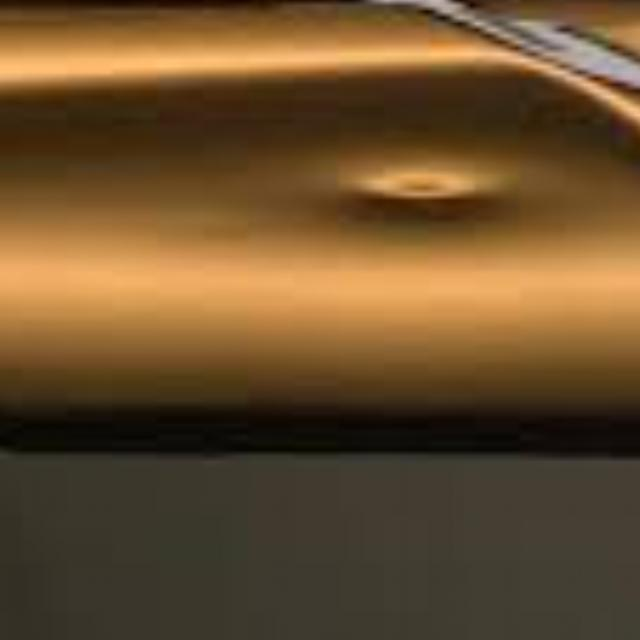dents: (318, 136, 502, 234)
